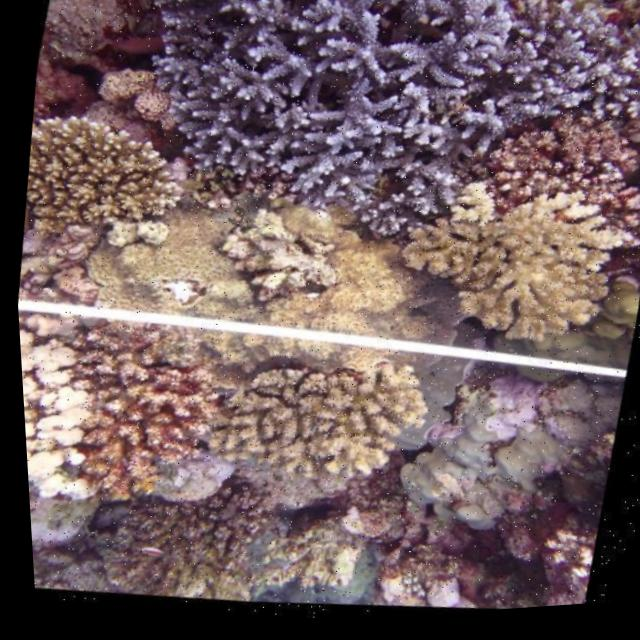Bleached Coral: (14, 307, 104, 513)
Healthy Coral: (130, 0, 596, 248), (425, 114, 640, 383), (238, 333, 437, 526), (86, 334, 250, 516), (23, 99, 189, 250)
